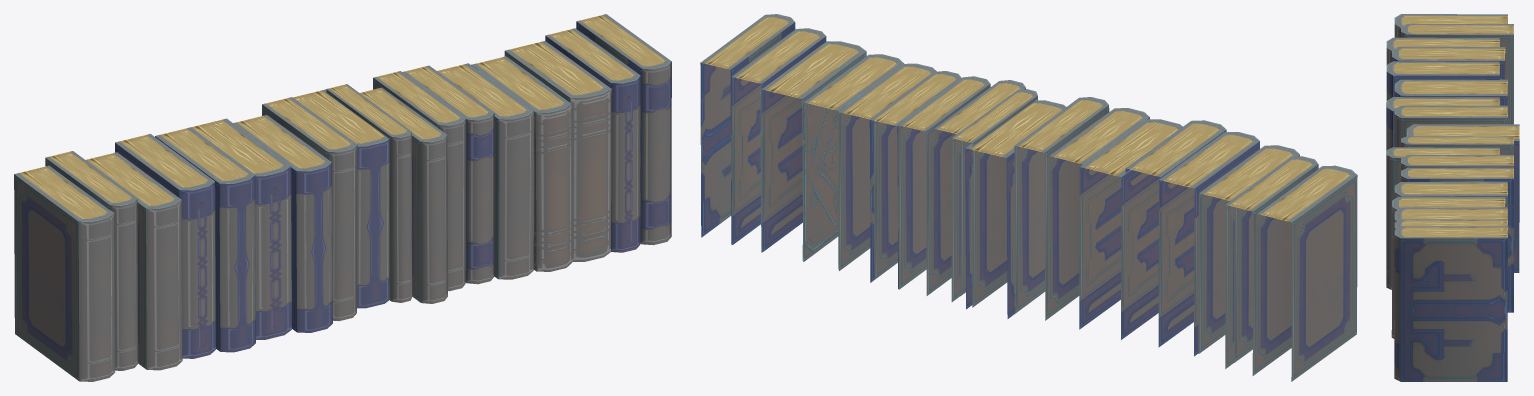
File: BookGroup_Medium_3.fbx
3 renders of one model, left to right at view 1: azimuth 30°, elevation 25°; view 2: azimuth 150°, elevation 25°; view 3: azimuth 270°, elevation 25°, orthographic. The views are drawn at different scales.
Parts seen in each view (by area): view 1: BookGroup_Medium_3; view 2: BookGroup_Medium_3; view 3: BookGroup_Medium_3.
Boxes of the visible parts, bbox=[...] form: BookGroup_Medium_3: bbox=[14, 14, 671, 381]; BookGroup_Medium_3: bbox=[700, 14, 1357, 381]; BookGroup_Medium_3: bbox=[1386, 14, 1519, 381].
Bounding box in the file's own units: 104 × 29.49 × 24.75.
